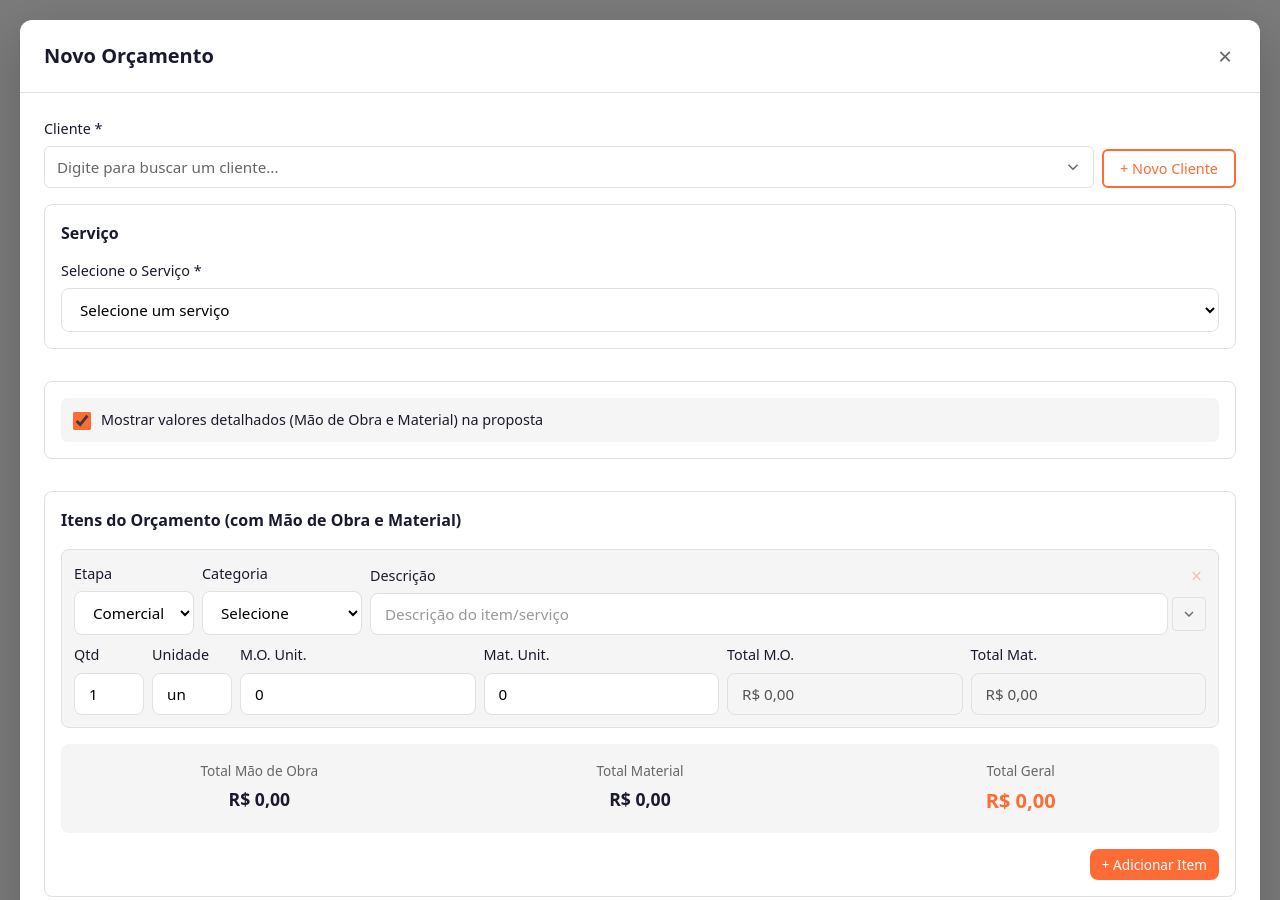
Test case: OrcamentoModal › deve mostrar lista de clientes ao focar no campo de busca
Focus the field with placeholder "Digite para buscar um cliente..." at [569, 167], box [44,146,1094,188]
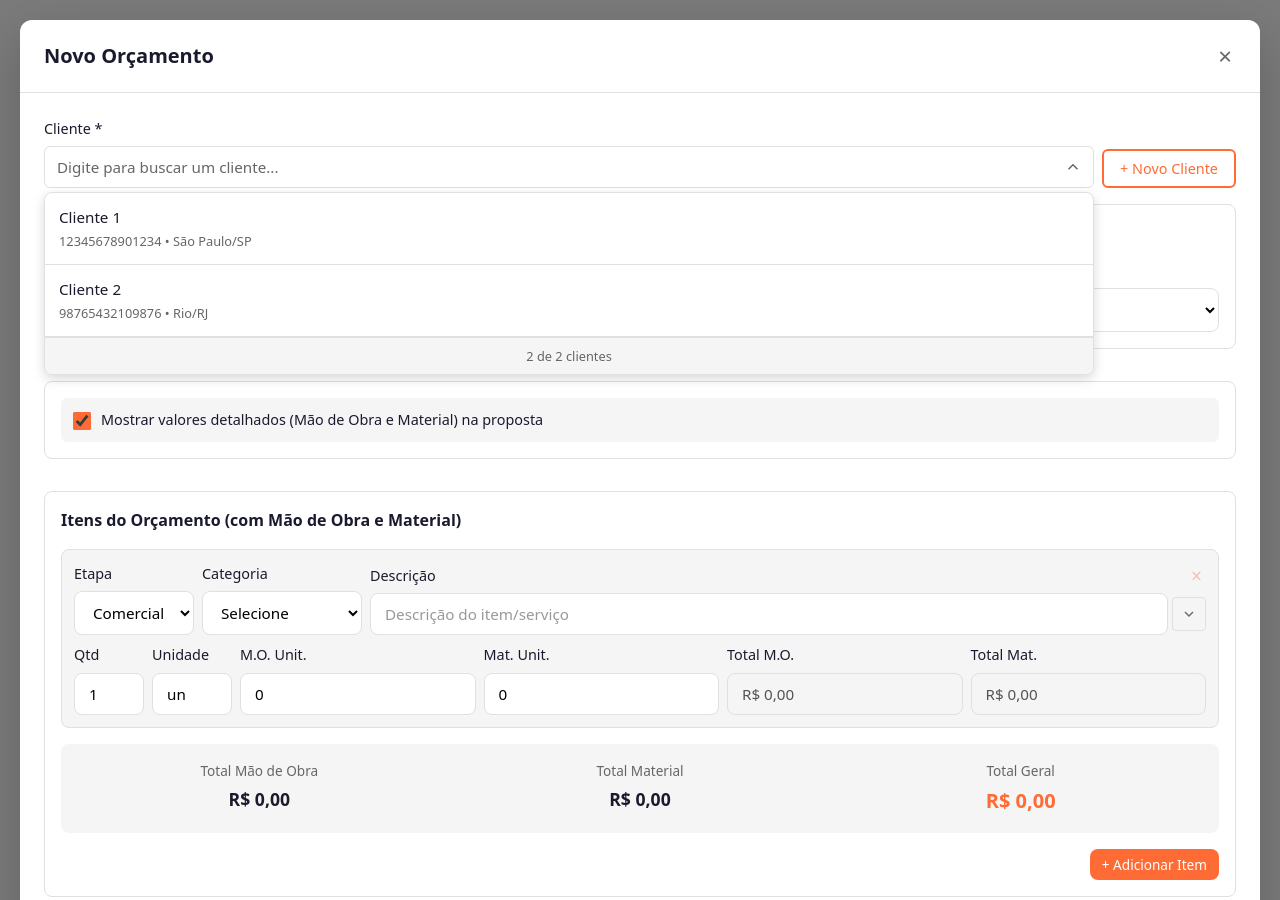
Now the text "Cliente 1" is shown, box [59,207,121,227]
Now the text "Cliente 2" is shown, box [59,279,121,299]
